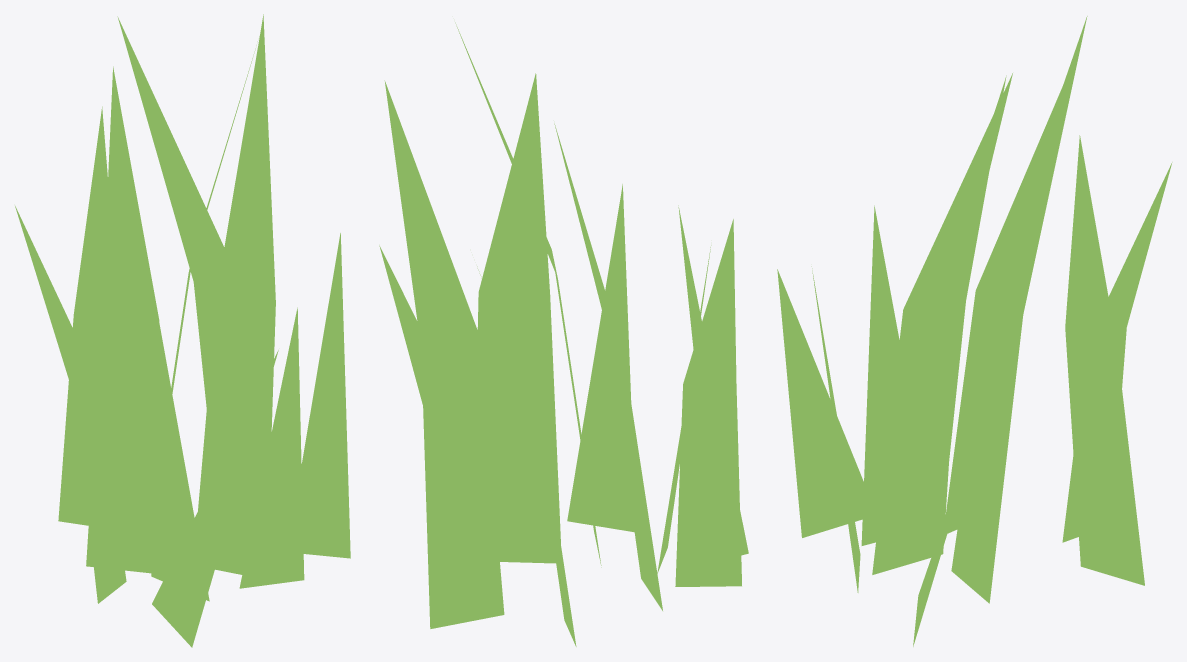
Rendered from Grass_a_OneS_04.fbx.
3 views of the same model, side by side, from view 1: azimuth 30°, elevation 25°; view 2: azimuth 150°, elevation 25°; view 3: azimuth 270°, elevation 25° (orthographic). The views are drawn at different scales.
Parts seen in each view (by area): view 1: Grass_a_OneS_04; view 2: Grass_a_OneS_04; view 3: Grass_a_OneS_04.
Boxes of the visible parts, x1,y1,x2,y2 form: Grass_a_OneS_04: [15, 14, 350, 647]; Grass_a_OneS_04: [379, 22, 748, 646]; Grass_a_OneS_04: [777, 16, 1172, 646].
Size of the model in its own units: 0.4207 by 0.6454 by 0.4167.
